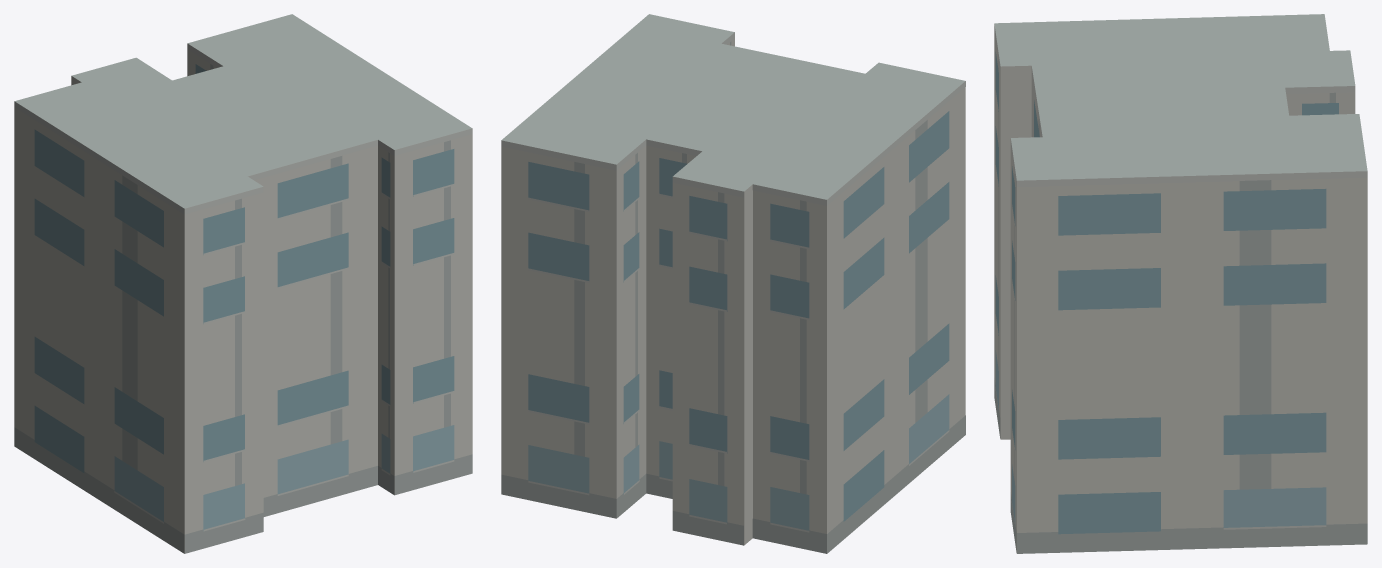
Rendered from survey-upis-32889411.glb.
The picture shows the model from 3 angles, left to right: view 1: azimuth 30°, elevation 25°; view 2: azimuth 150°, elevation 25°; view 3: azimuth 270°, elevation 25°; orthographic projection. The views are drawn at different scales.
Visible parts, largest first — view 1: survey-upis-32889411.tmp; view 2: survey-upis-32889411.tmp; view 3: survey-upis-32889411.tmp.
Boxes of the visible parts, bbox=[...] form: survey-upis-32889411.tmp: bbox=[14, 14, 472, 553]; survey-upis-32889411.tmp: bbox=[501, 14, 965, 553]; survey-upis-32889411.tmp: bbox=[994, 14, 1367, 553].
Bounding box in the file's own units: 13.7 × 14.3 × 12.97.
